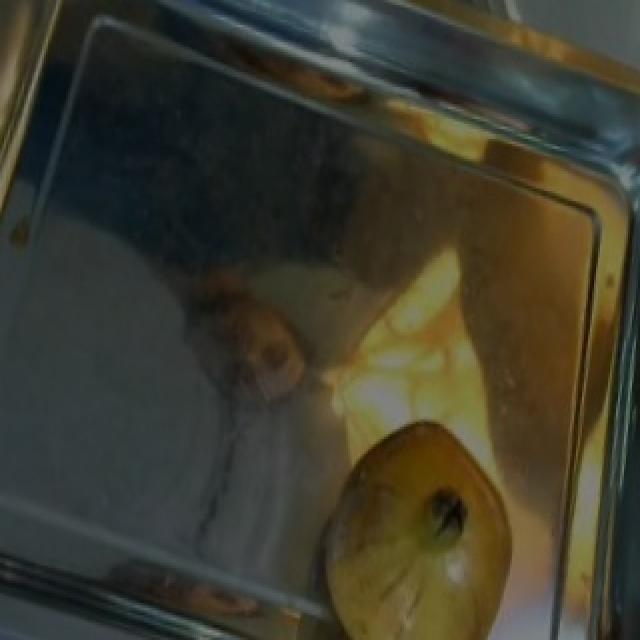fruit: (294, 389, 538, 640)
